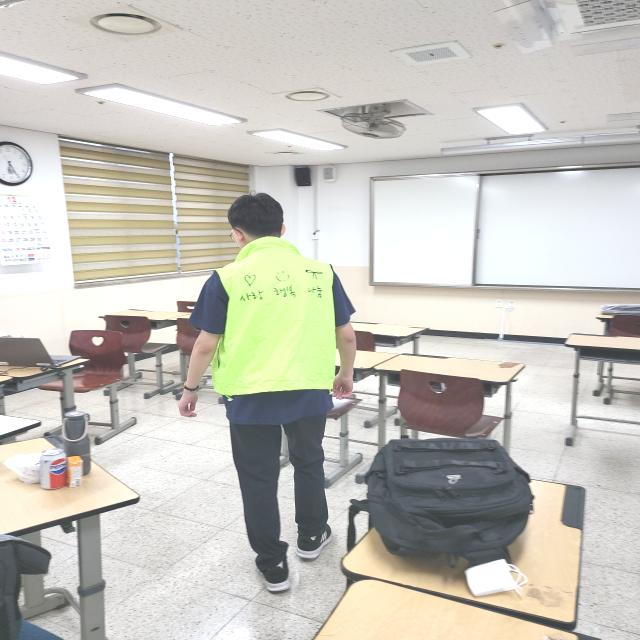weston_spy: (186, 242, 360, 416)
